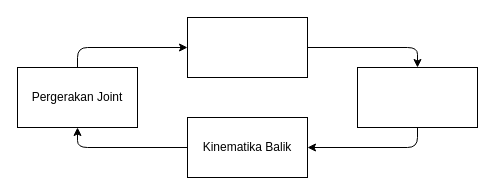
Some shapes in this 495 by 195 pixel diagram are drawn without their labels. The shapes that lost their labels are listed below. From the top down, each one's box as (x1, y1, x2, y2) in pixels, then its label:
(186, 16, 308, 78): Kinematika Maju
(356, 66, 478, 128): Posisi dan Orientasi dari End-Effector
